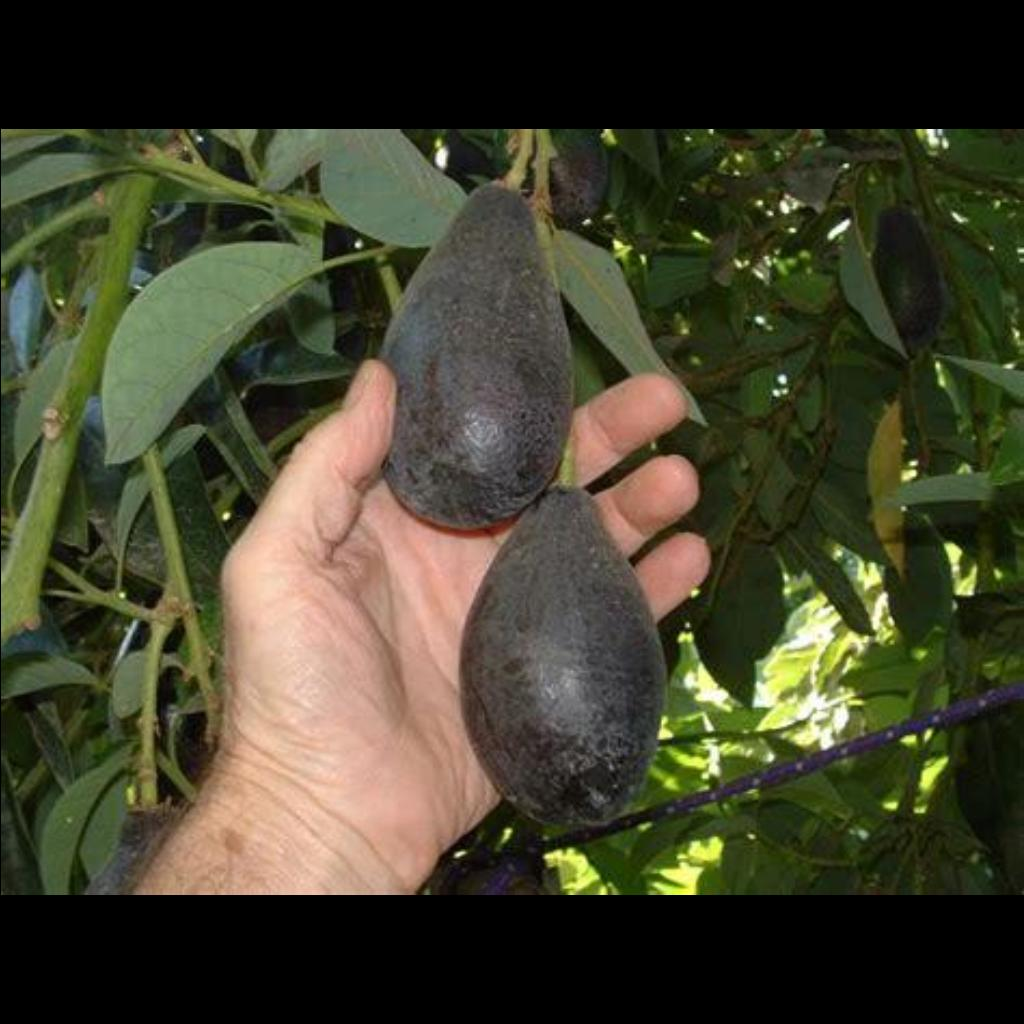Healthy: (442, 524, 686, 838), (376, 171, 578, 523)
